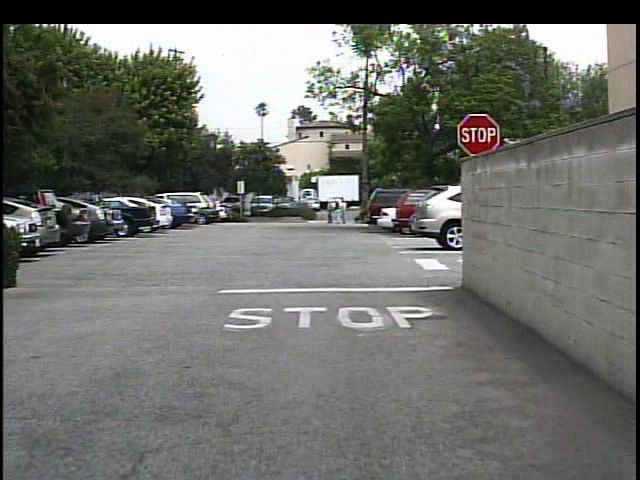person: (335, 200, 350, 227), (321, 201, 335, 227)
